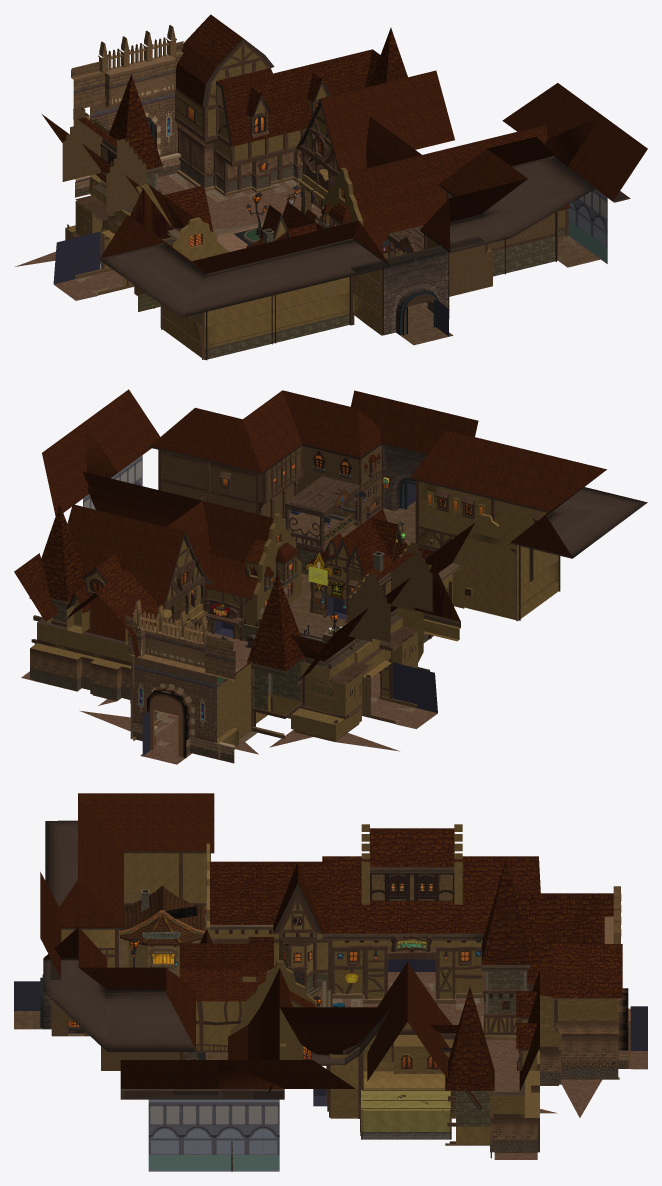
The model's file is TraverseTown.glb.
3 views of the same model, one above another, from view 1: azimuth 30°, elevation 25°; view 2: azimuth 150°, elevation 25°; view 3: azimuth 270°, elevation 25° (orthographic). The views are drawn at different scales.
Parts seen in each view (by area): view 1: map, House1, Gate, Stall; view 2: map, House1, Gate, Stall; view 3: map, House1, Geppettos, Gate.
Boxes of the visible parts, bbox=[...] form: map: bbox=[15, 14, 647, 360]; House1: bbox=[420, 136, 596, 318]; Gate: bbox=[71, 25, 183, 197]; Stall: bbox=[382, 225, 423, 257]; map: bbox=[14, 389, 647, 764]; House1: bbox=[150, 390, 384, 524]; Gate: bbox=[125, 599, 235, 763]; Stall: bbox=[285, 476, 365, 551]; map: bbox=[14, 793, 647, 1171]; House1: bbox=[43, 927, 195, 1070]; Geppettos: bbox=[119, 886, 205, 973]; Gate: bbox=[604, 886, 647, 1068].
Bounding box in the file's own units: 75.47 × 22.82 × 77.3.
Materials: 96 (96 with a texture image).
